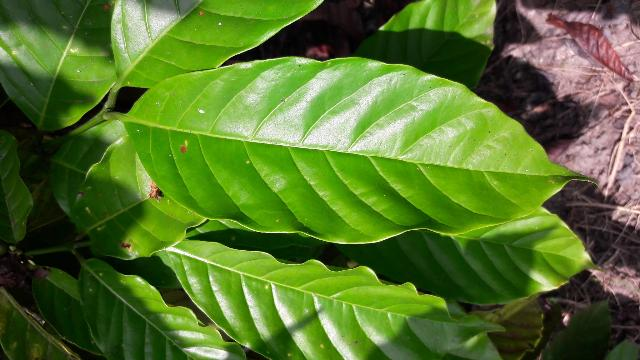red_spider_mite: (118, 52, 609, 245)
